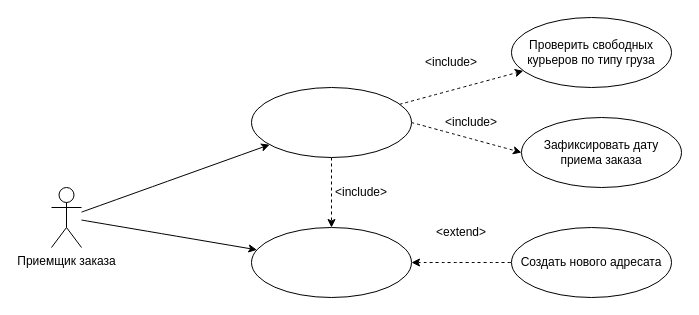
This 699x315 diagram has some shape labels left out. Each missing label, with the centre of its shape:
"Оформить заказ на доставку" belongs at (x=331, y=122).
"Проверить наличие адресата в базе" belongs at (x=331, y=262).
